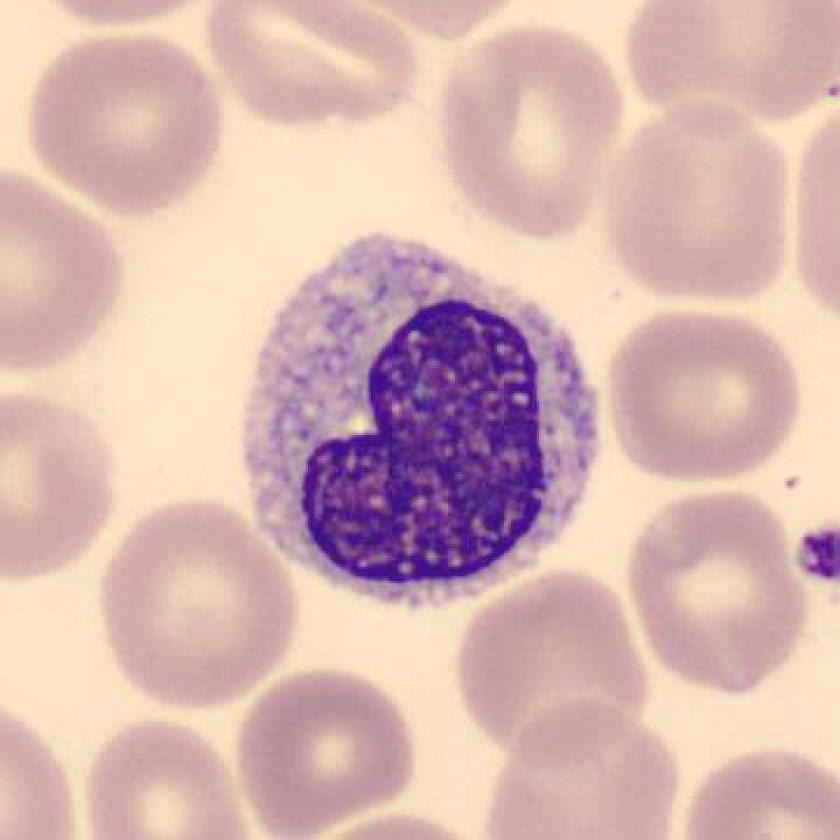monocyte: (225, 219, 626, 631), (701, 508, 703, 510)
